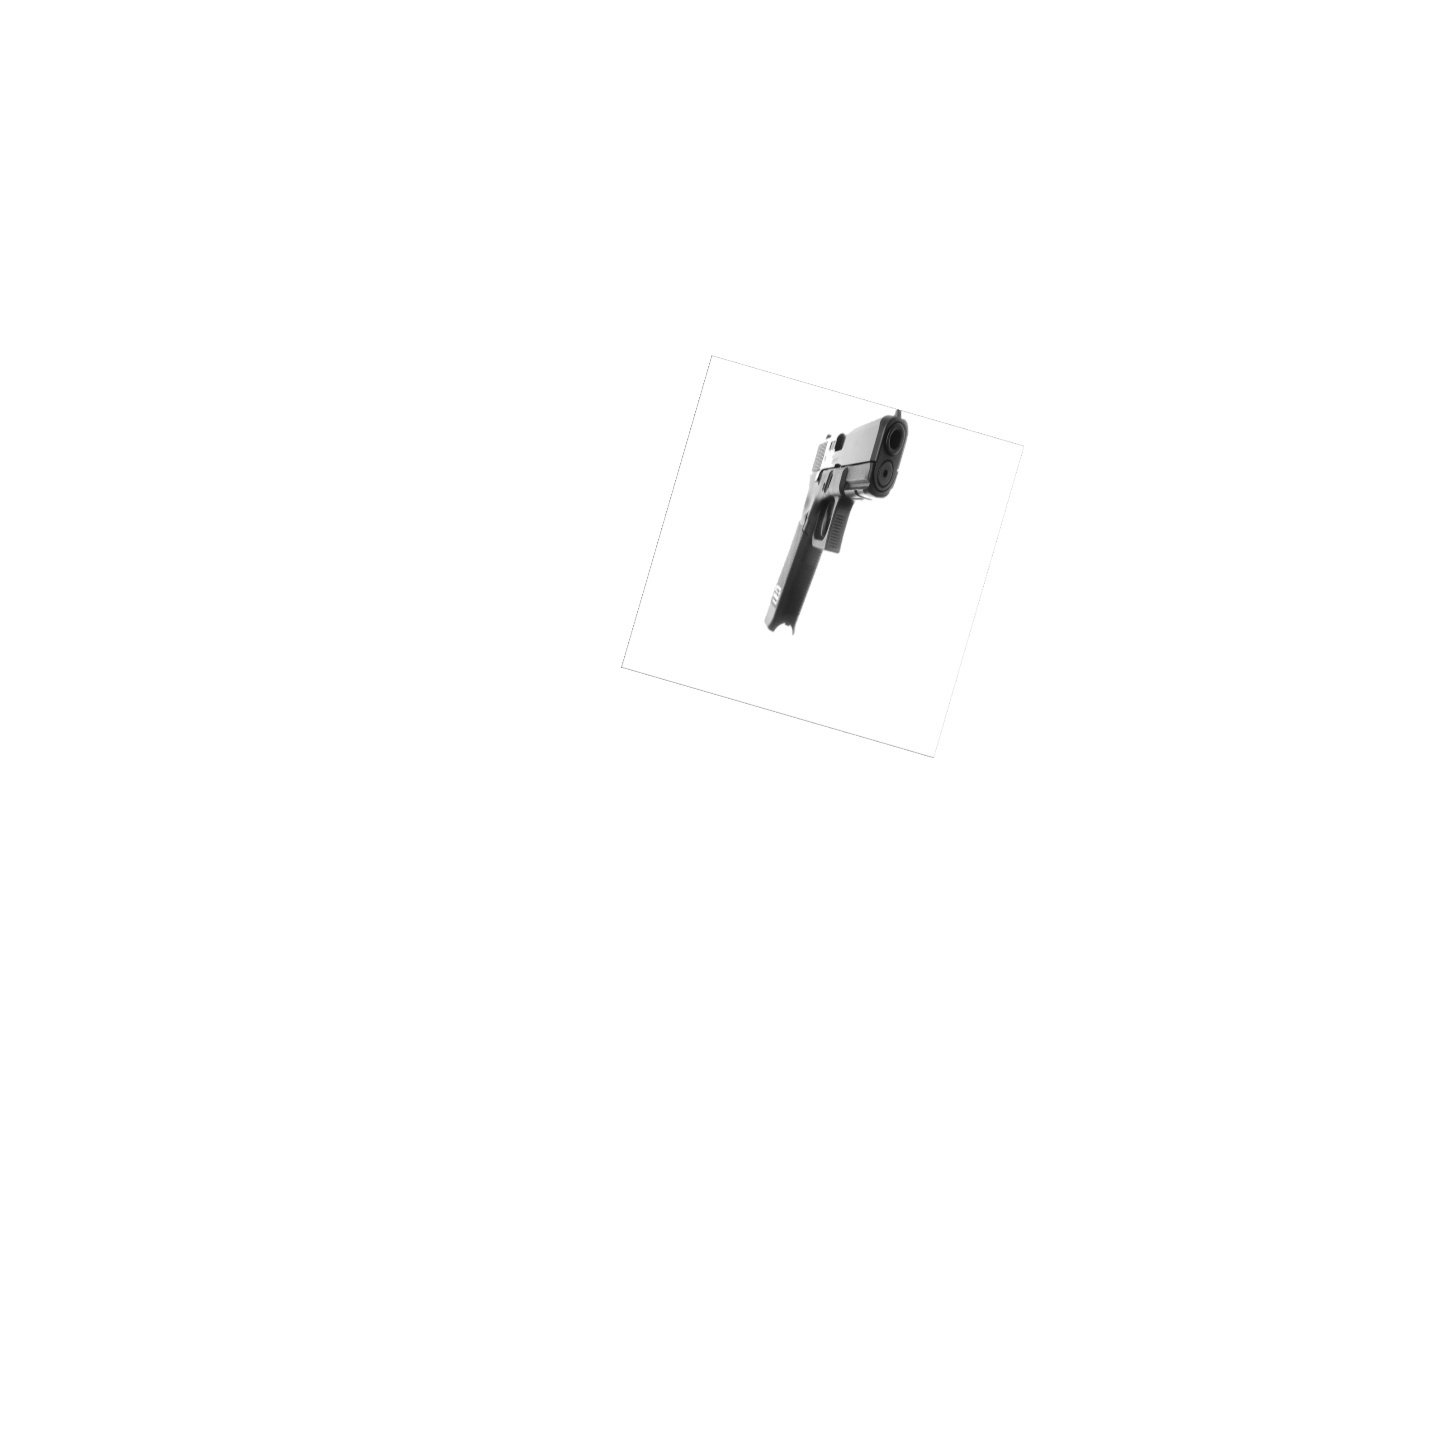gun: (759, 407, 917, 637)
